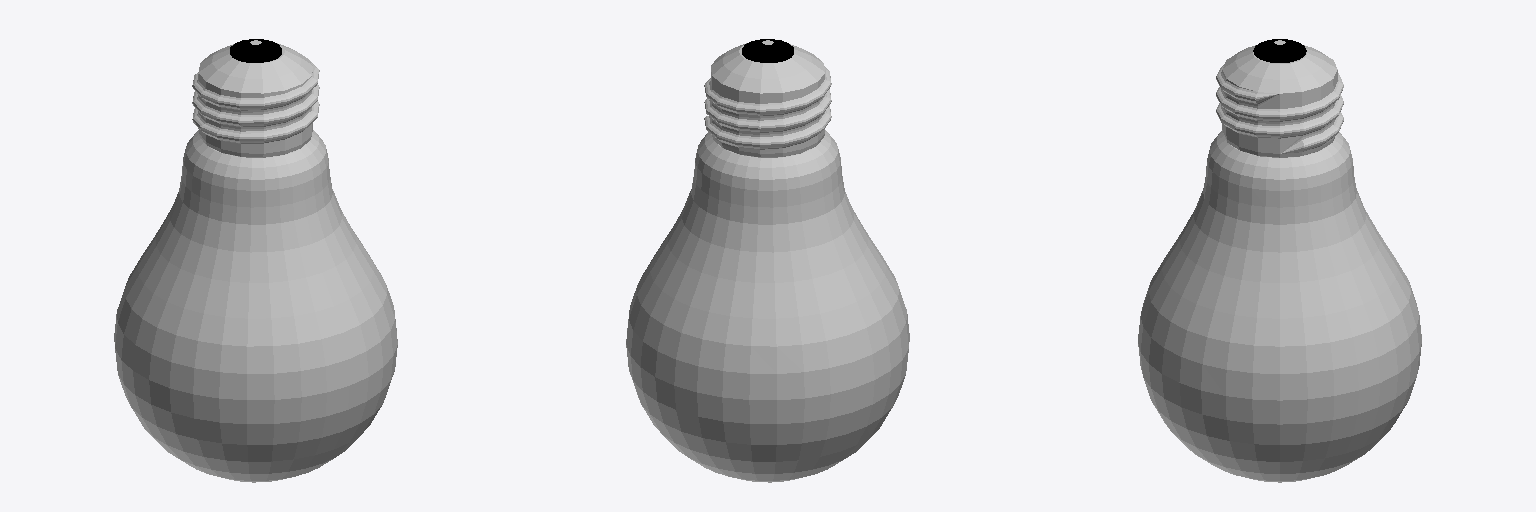
The model's file is bulb.obj.
3 renders of one model, left to right at view 1: azimuth 30°, elevation 25°; view 2: azimuth 150°, elevation 25°; view 3: azimuth 270°, elevation 25°, orthographic.
Visible parts, largest first — view 1: #LMP0002_Single_Light_Bulb(No_Refraction)_Circle.003; view 2: #LMP0002_Single_Light_Bulb(No_Refraction)_Circle.003; view 3: #LMP0002_Single_Light_Bulb(No_Refraction)_Circle.003.
Part boxes in pixels (x1,y1,x2,y2): #LMP0002_Single_Light_Bulb(No_Refraction)_Circle.003: (114, 39, 397, 482); #LMP0002_Single_Light_Bulb(No_Refraction)_Circle.003: (626, 39, 909, 482); #LMP0002_Single_Light_Bulb(No_Refraction)_Circle.003: (1138, 39, 1421, 482).
Bounding box in the file's own units: 0.0761 × 0.126 × 0.0761.